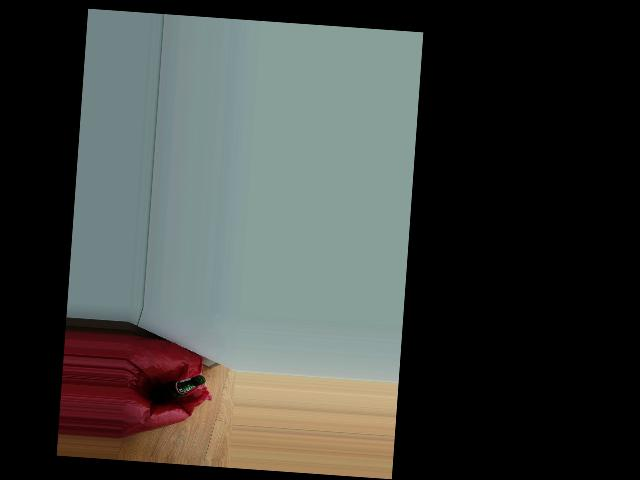beer: (150, 372, 205, 406)
